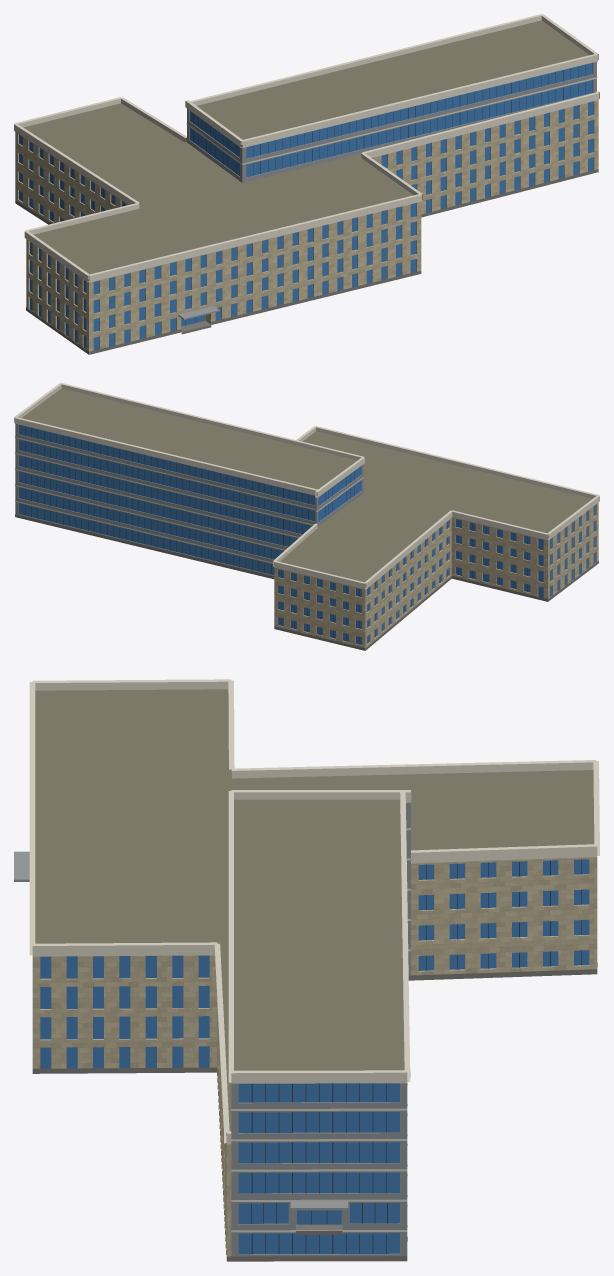
3 renders of one model, top to bottom at view 1: azimuth 30°, elevation 25°; view 2: azimuth 150°, elevation 25°; view 3: azimuth 270°, elevation 25°, orthographic. The views are drawn at different scales.
Parts seen in each view (by area): view 1: manhae__roof, manhae__wall, manhae__glass, manhae__trim, manhae__wall2, manhae__base, manhae__frame; view 2: manhae__roof, manhae__glass, manhae__wall, manhae__trim, manhae__wall2, manhae__frame, manhae__base; view 3: manhae__roof, manhae__glass, manhae__wall, manhae__trim, manhae__wall2, manhae__base, manhae__frame, manhae__canopy.
Boxes of the visible parts, x1,y1,x2,y2 form: manhae__roof: (23,20,589,279); manhae__wall: (15,100,598,354); manhae__glass: (19,63,593,350); manhae__trim: (14,14,599,282); manhae__wall2: (187,61,596,182); manhae__base: (15,169,598,354); manhae__frame: (41,64,585,325); manhae__roof: (21,388,592,586); manhae__glass: (19,424,595,644); manhae__wall: (274,503,598,650); manhae__trim: (14,383,599,589); manhae__wall2: (15,424,363,576); manhae__frame: (25,426,527,644); manhae__base: (15,514,598,650); manhae__roof: (35,689,594,1261); manhae__glass: (40,859,589,1254); manhae__wall: (32,857,597,1260); manhae__trim: (29,679,599,1232); manhae__wall2: (231,802,410,1256); manhae__base: (32,962,597,1261); manhae__frame: (251,859,581,1254); manhae__canopy: (14,851,348,1210).
Size of the model in its own units: 117 by 22.9 by 63.08.
Materials: 9 (1 with a texture image).
